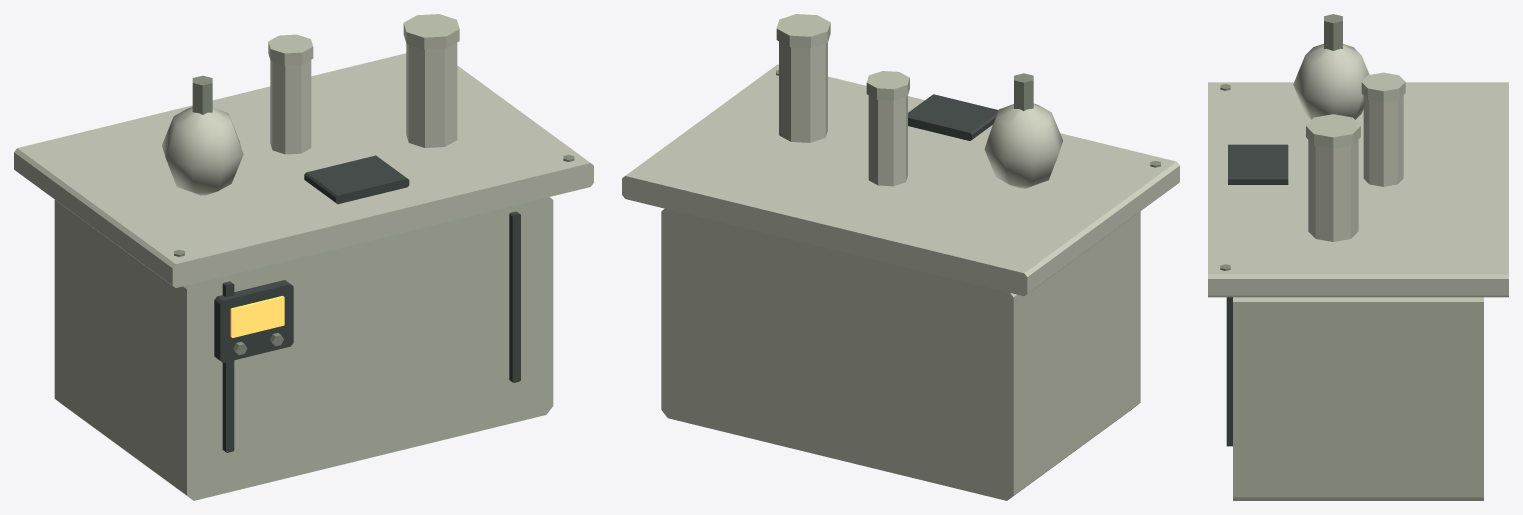
The model's file is ChemistryLab.gltf.
3 renders of one model, left to right at view 1: azimuth 30°, elevation 25°; view 2: azimuth 150°, elevation 25°; view 3: azimuth 270°, elevation 25°, orthographic. The views are drawn at different scales.
Parts seen in each view (by area): view 1: ChemistryLab; view 2: ChemistryLab; view 3: ChemistryLab.
Part boxes in pixels (box(x1,y1,x2,y2)): ChemistryLab: box(14, 14, 593, 500); ChemistryLab: box(622, 14, 1179, 500); ChemistryLab: box(1208, 14, 1508, 500).
Bounding box in the file's own units: 0.92 × 0.765 × 0.6.
